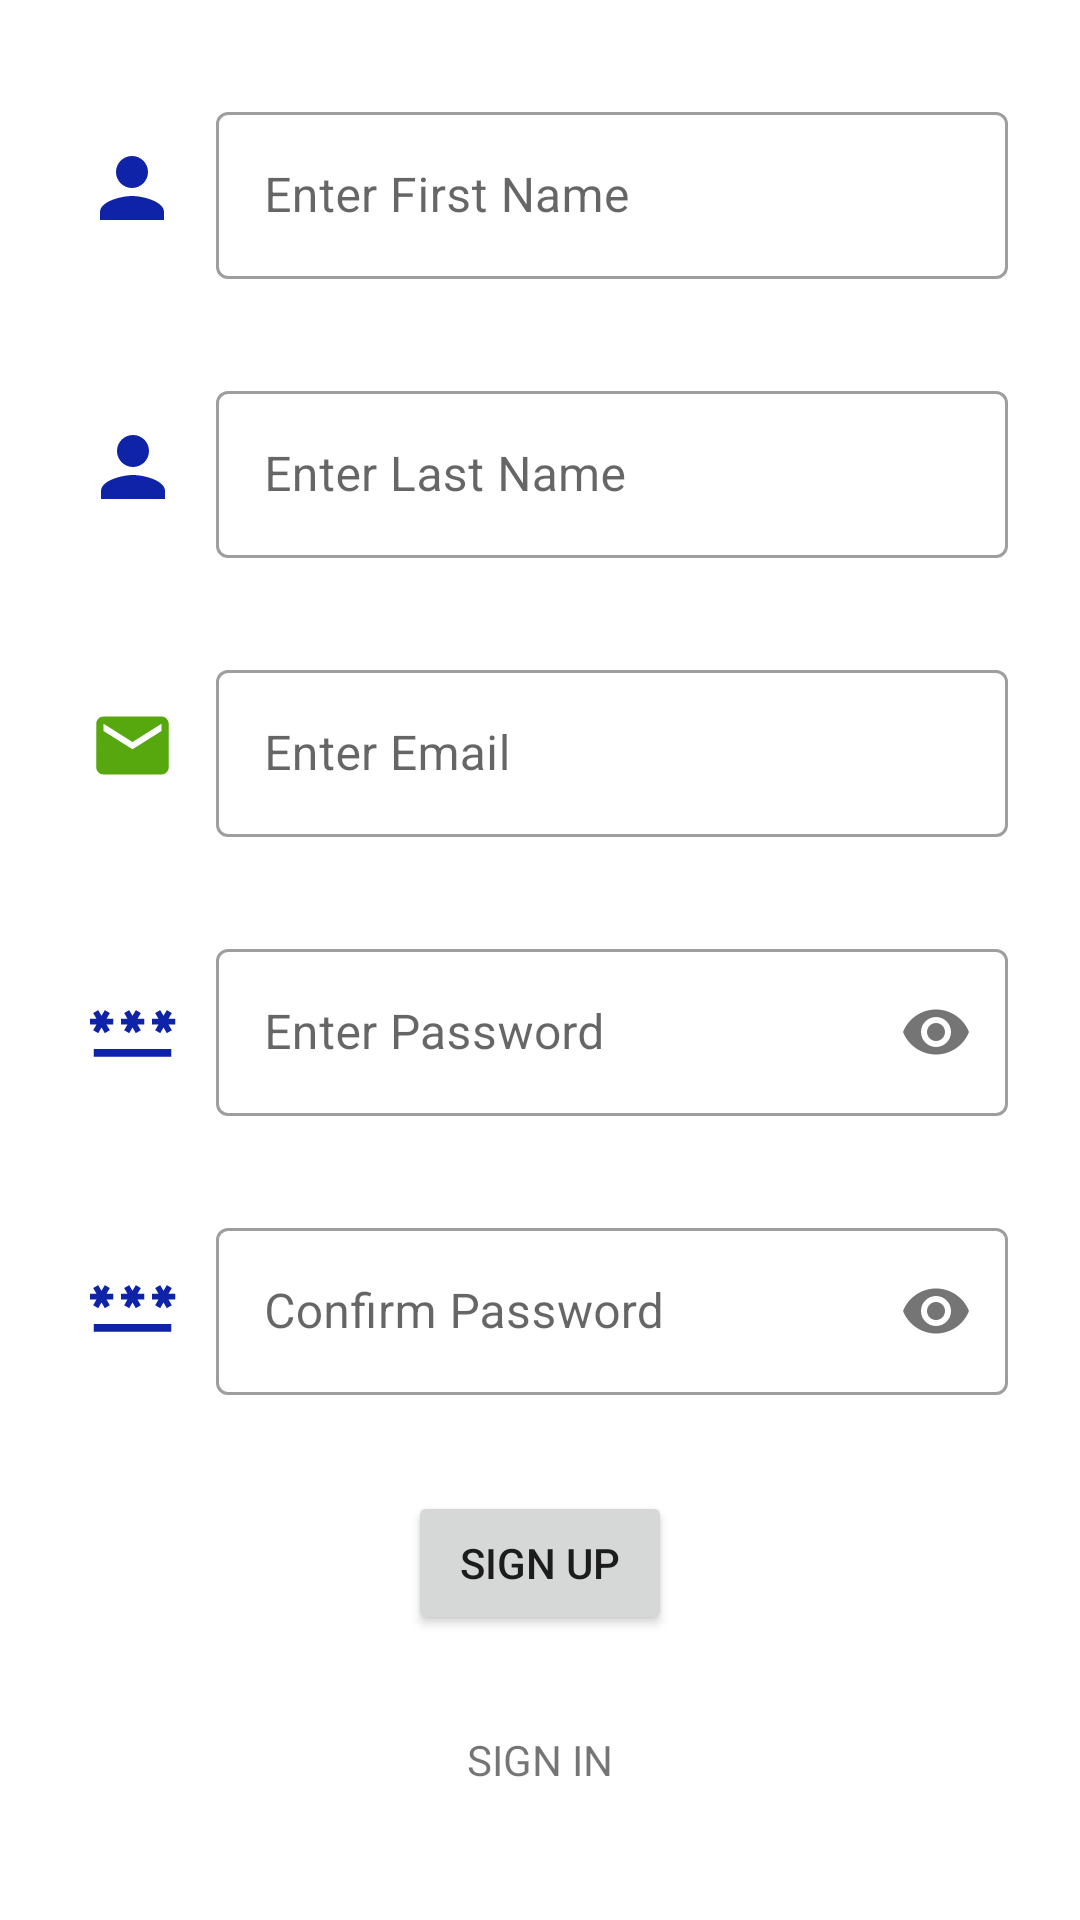

Where to tap for icons on this 1080px×1920px app screen, as point (x, y):
person: point (132, 188), point (133, 467)
